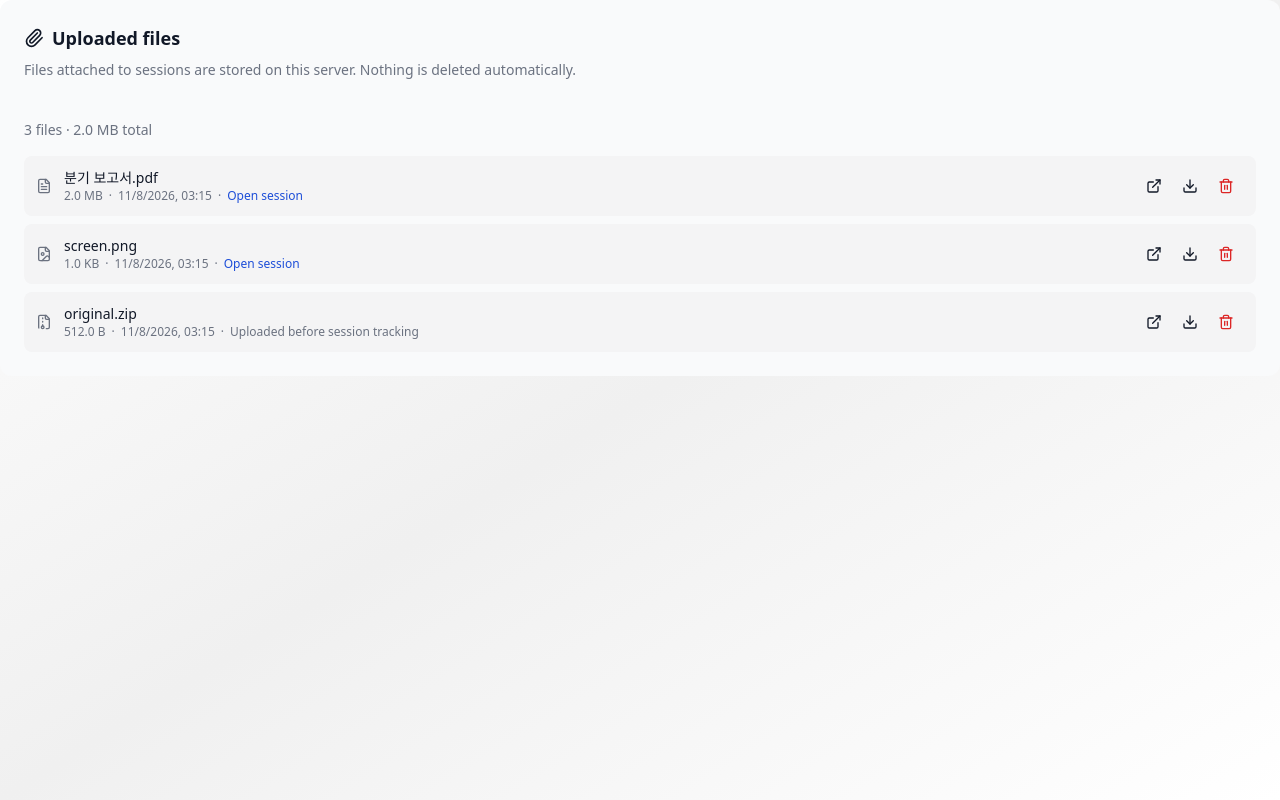
Test case: UploadedFilesSettings › deletes only after the user confirms that single file
Later steps or results of the test are not shown.
What coordinates should you click on to do the following:
click the button named "Delete 분기 보고서.pdf"
I would click on:
 (1226, 186)
Its box is [1208, 168, 1244, 204].
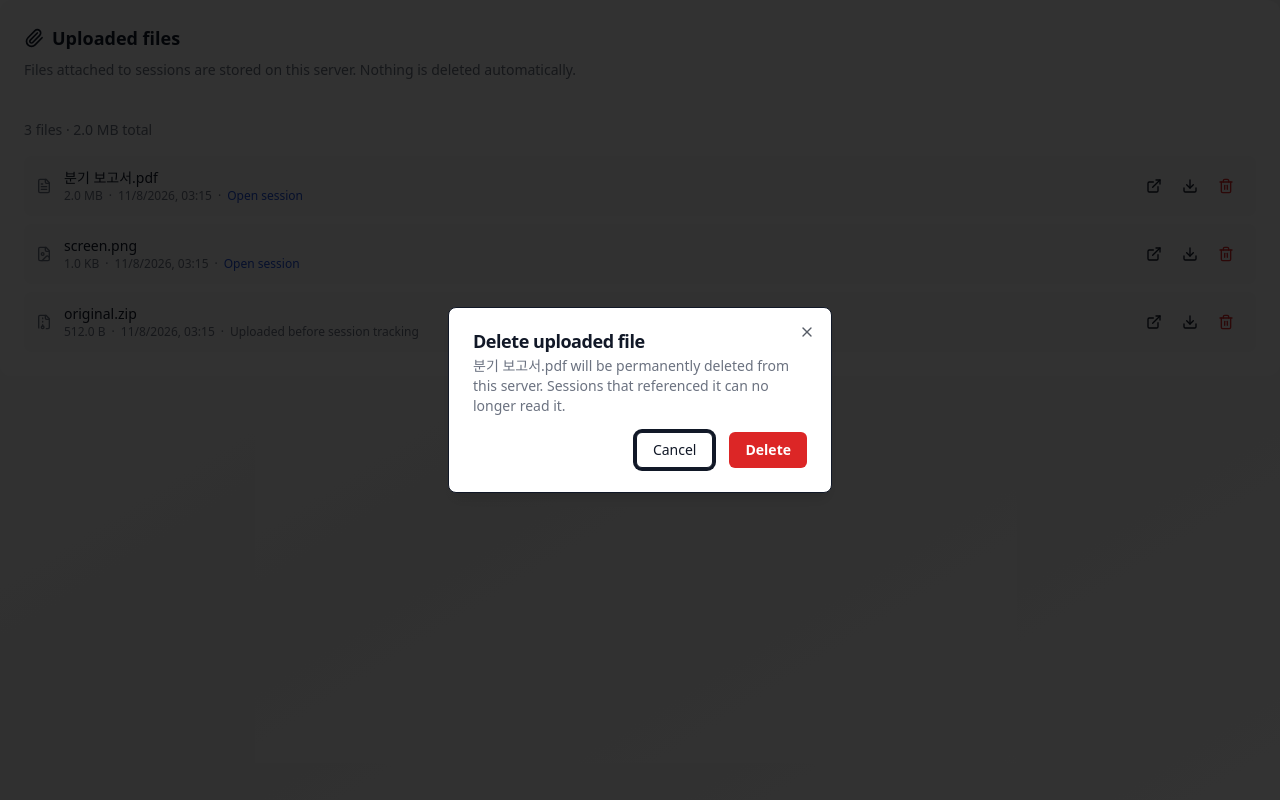
Check: the dialog shows "분기 보고서.pdf will be permanently deleted from this server.", box [473, 356, 789, 415]
